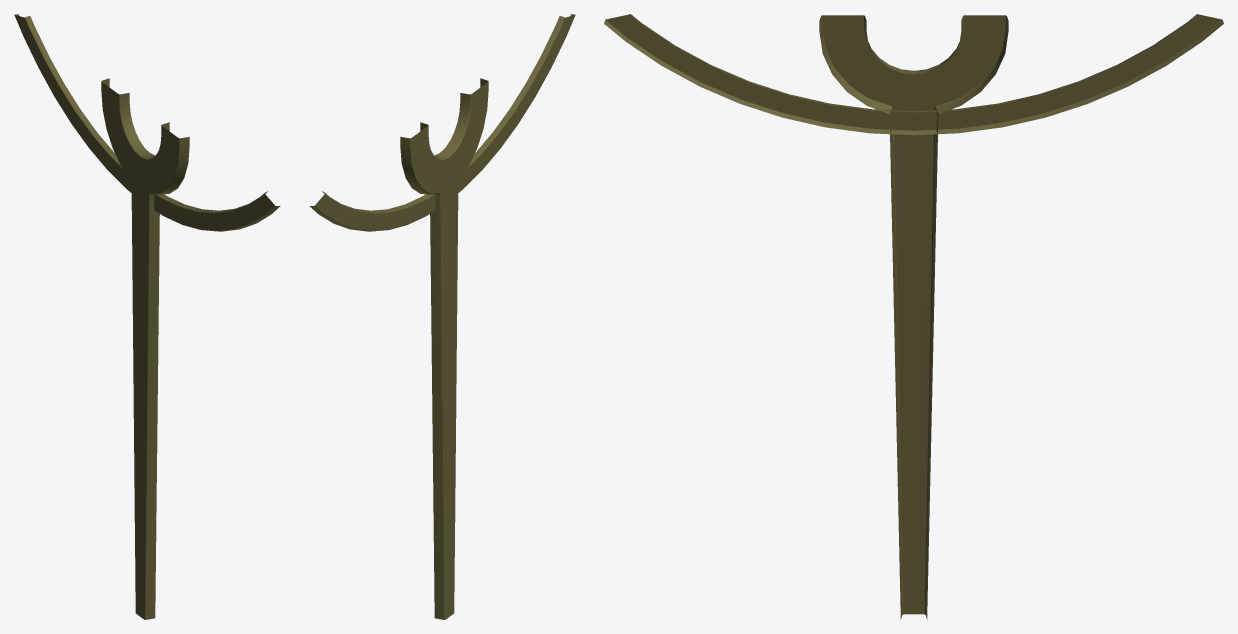
Rendered from Geonosis_Gallery01_TallDeco.fbx.
3 renders of one model, left to right at view 1: azimuth 30°, elevation 25°; view 2: azimuth 150°, elevation 25°; view 3: azimuth 270°, elevation 25°, orthographic. The views are drawn at different scales.
Parts seen in each view (by area): view 1: Geonosis_Gallery01_TallDeco; view 2: Geonosis_Gallery01_TallDeco; view 3: Geonosis_Gallery01_TallDeco.
Part boxes in pixels (x1,y1,x2,y2): Geonosis_Gallery01_TallDeco: [14, 14, 280, 619]; Geonosis_Gallery01_TallDeco: [309, 14, 575, 619]; Geonosis_Gallery01_TallDeco: [604, 14, 1223, 619].
Size of the model in its own units: 21 by 1058 by 983.
